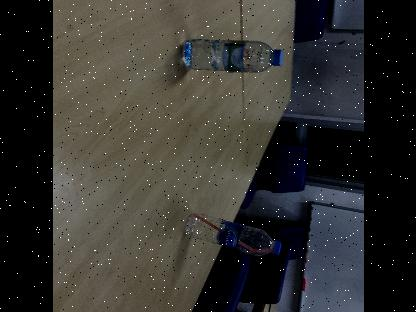Plastic Bottle: (184, 214, 282, 256), (180, 40, 284, 72)
